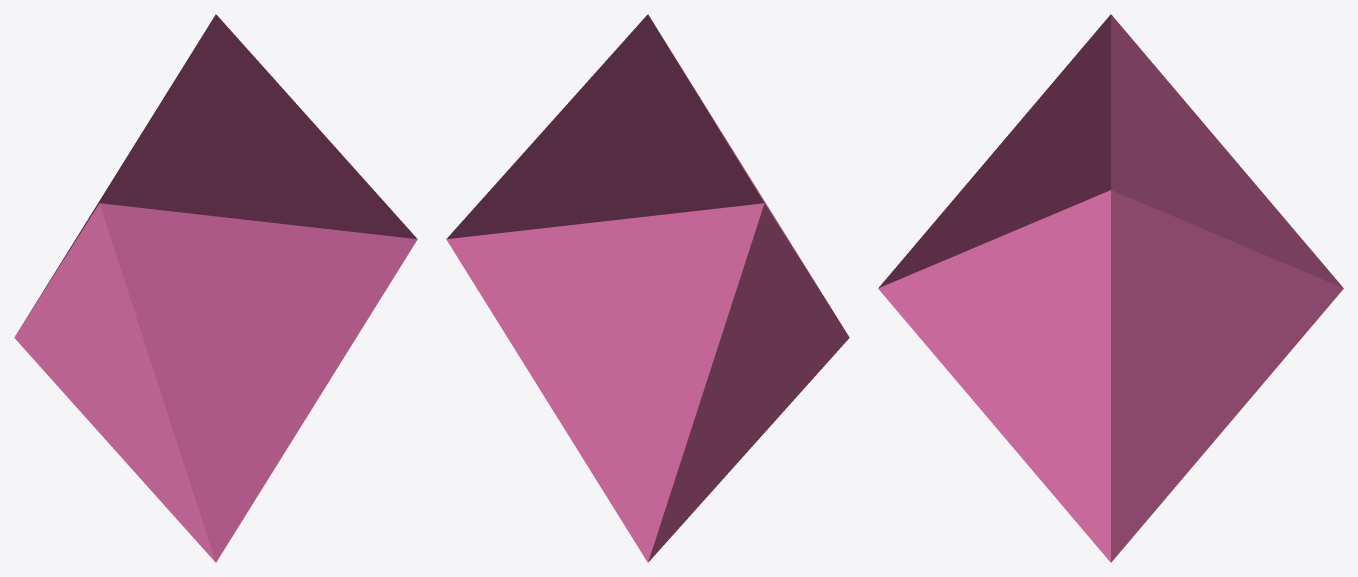
Rendered from hand-hearts.glb.
The picture shows the model from 3 angles, left to right: view 1: azimuth 30°, elevation 25°; view 2: azimuth 150°, elevation 25°; view 3: azimuth 270°, elevation 25°; orthographic projection.
Bounding box in the file's own units: 2 × 2.6 × 2.
